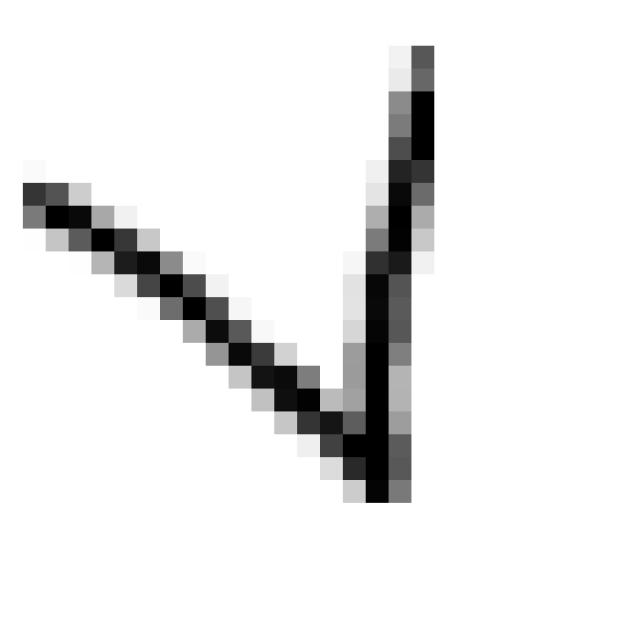7 -seven-: (4, 30, 460, 521)
